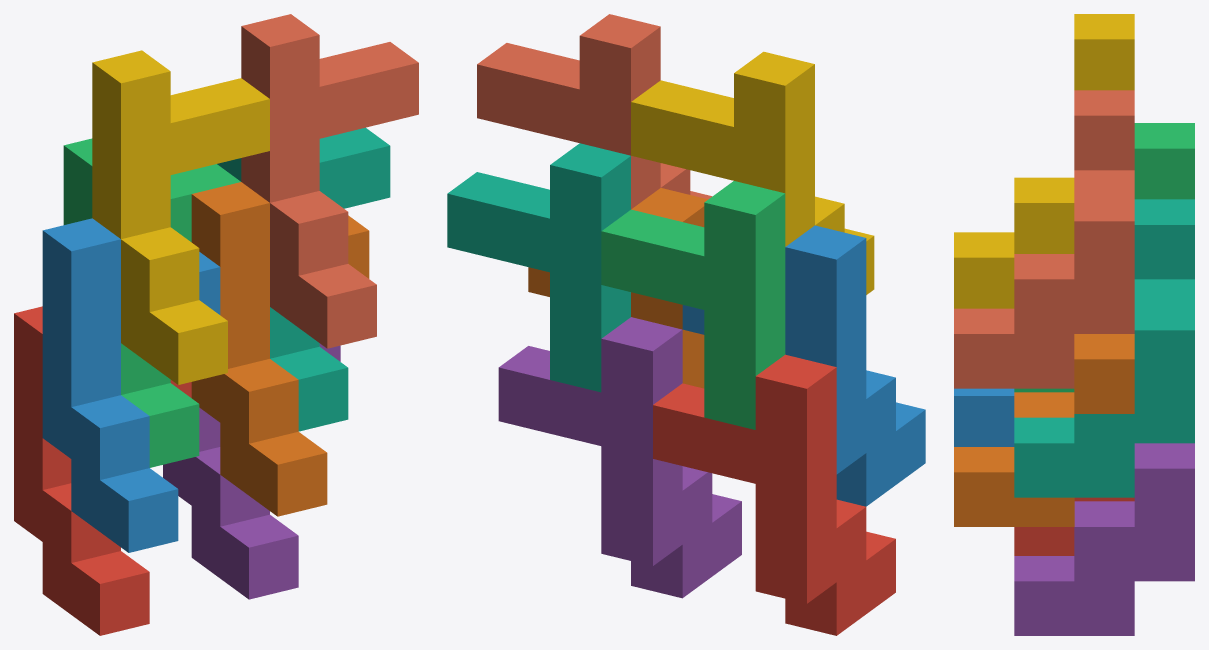
File: tiling.obj
3 renders of one model, left to right at view 1: azimuth 30°, elevation 25°; view 2: azimuth 150°, elevation 25°; view 3: azimuth 270°, elevation 25°, orthographic. The views are drawn at different scales.
Visible parts, largest first — view 1: copy_1_domain_4, copy_1_domain_8, copy_1_domain_2, copy_1_domain_6, copy_1_domain_1, copy_1_domain_5, copy_1_domain_7, copy_1_domain_3; view 2: copy_1_domain_1, copy_1_domain_5, copy_1_domain_3, copy_1_domain_7, copy_1_domain_4, copy_1_domain_2, copy_1_domain_8, copy_1_domain_6; view 3: copy_1_domain_8, copy_1_domain_7, copy_1_domain_5, copy_1_domain_4, copy_1_domain_6, copy_1_domain_3, copy_1_domain_2, copy_1_domain_1.
Part boxes in pixels (x1,y1,x2,y2): copy_1_domain_4: (92, 50, 269, 384); copy_1_domain_8: (241, 14, 418, 348); copy_1_domain_2: (42, 218, 220, 552); copy_1_domain_6: (191, 182, 369, 516); copy_1_domain_1: (14, 306, 191, 635); copy_1_domain_5: (163, 343, 340, 599); copy_1_domain_7: (217, 127, 390, 431); copy_1_domain_3: (63, 138, 240, 467); copy_1_domain_1: (653, 354, 895, 635); copy_1_domain_5: (498, 317, 741, 598); copy_1_domain_3: (601, 181, 785, 429); copy_1_domain_7: (447, 143, 630, 392); copy_1_domain_4: (631, 51, 874, 294); copy_1_domain_2: (682, 225, 925, 506); copy_1_domain_8: (477, 14, 712, 209); copy_1_domain_6: (528, 188, 707, 388); copy_1_domain_8: (954, 90, 1134, 388); copy_1_domain_7: (1014, 199, 1194, 497); copy_1_domain_5: (1014, 443, 1194, 635); copy_1_domain_4: (954, 14, 1134, 308); copy_1_domain_6: (954, 334, 1134, 526); copy_1_domain_3: (1014, 123, 1194, 392); copy_1_domain_2: (954, 388, 1014, 446); copy_1_domain_1: (1014, 497, 1134, 555).
Bounding box in the file's own units: 7 × 10 × 4.
